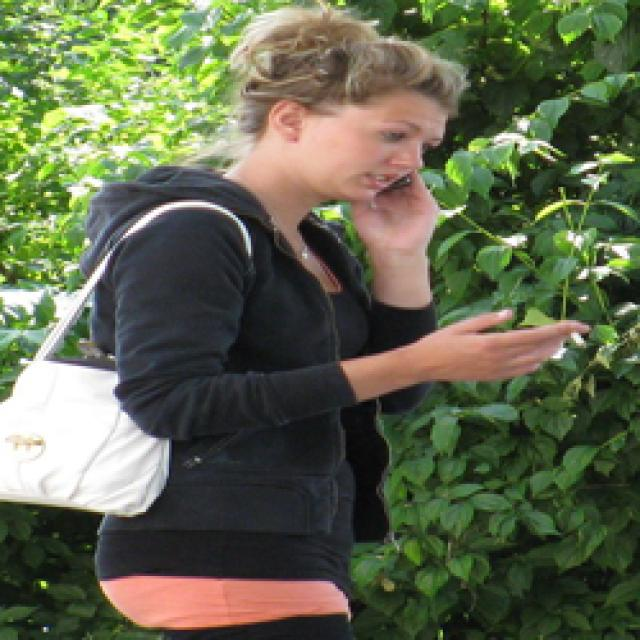Smooking: (565, 325, 590, 347)
